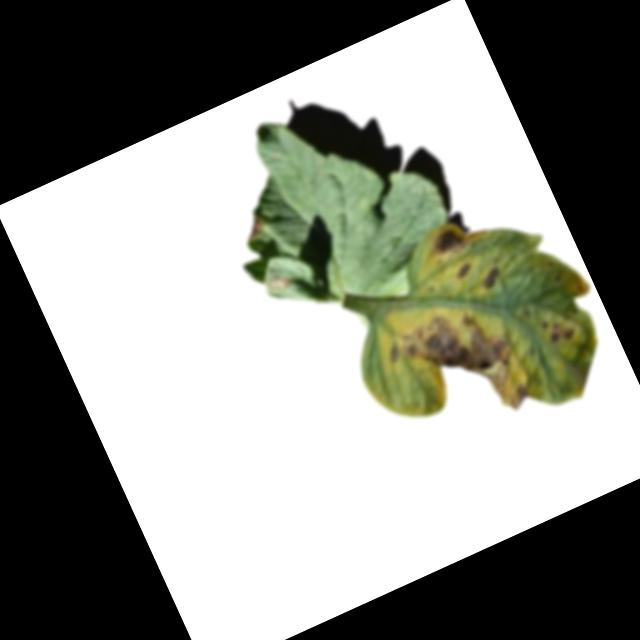Early_blight: (377, 287, 540, 450), (427, 221, 473, 260), (539, 310, 577, 348), (240, 212, 271, 241), (264, 268, 294, 294), (478, 261, 504, 288), (454, 256, 474, 277)
